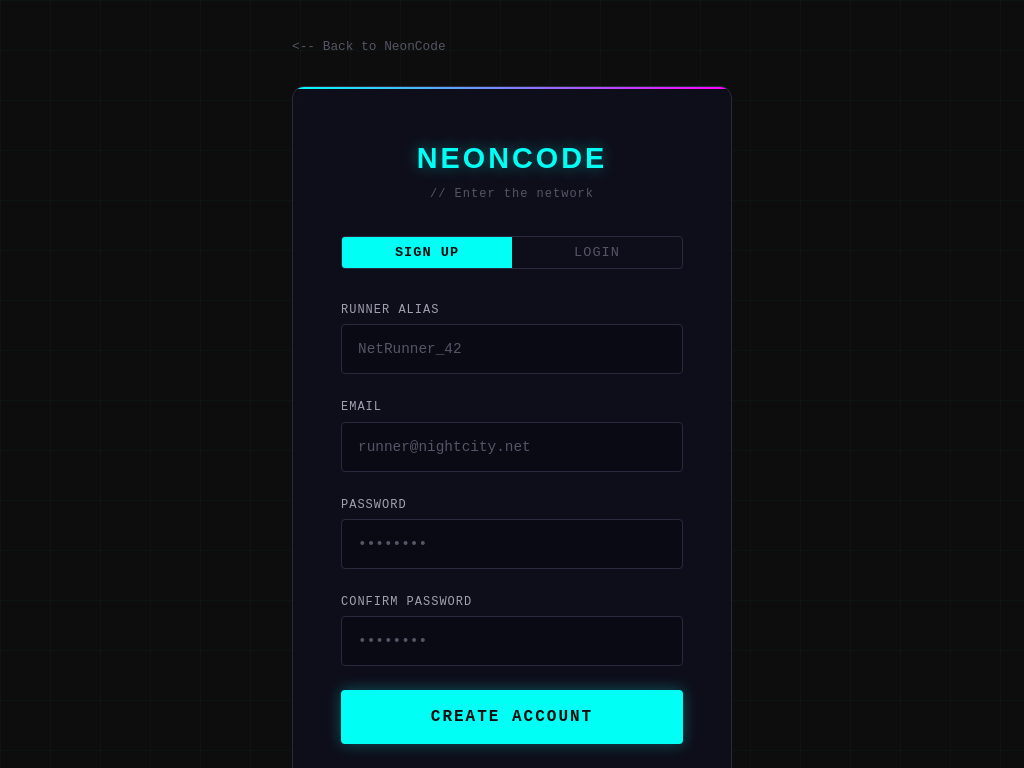
Scenario: RegistrationPage › switches to login form when Login tab is clicked
Click the button "Login" at (597, 253), box [512,237,682,268]
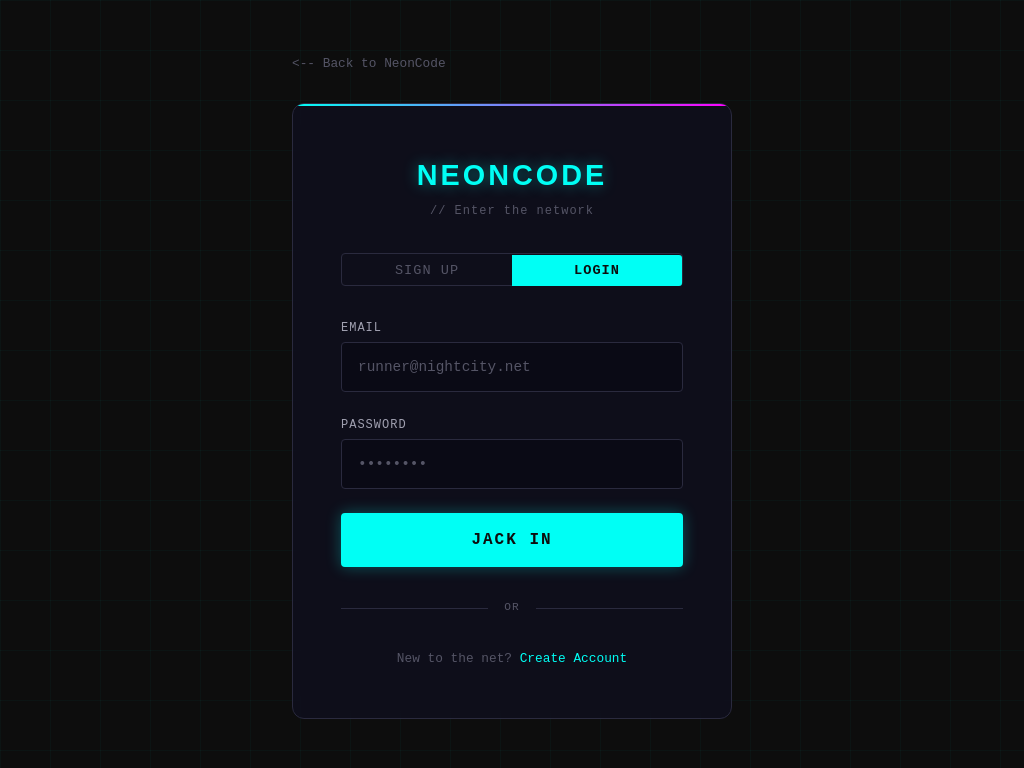
Result: the label labelled "Runner Alias" is gone
Result: the button "Jack In" is shown at [341,513,683,567]
